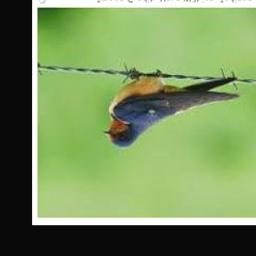Swallow: (103, 75, 240, 148)
